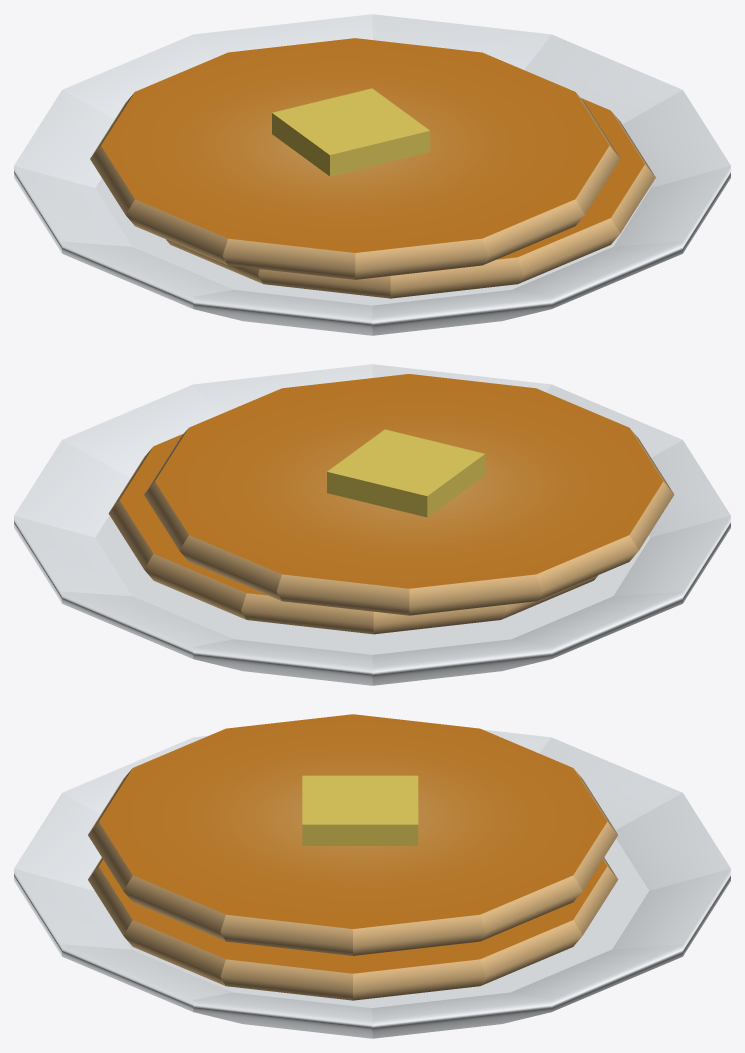
File: pancake.fbx
3 renders of one model, top to bottom at view 1: azimuth 30°, elevation 25°; view 2: azimuth 150°, elevation 25°; view 3: azimuth 270°, elevation 25°, orthographic.
Visible parts, largest first — view 1: pancakes; view 2: pancakes; view 3: pancakes.
Boxes of the visible parts, x1,y1,x2,y2 form: pancakes: [14, 14, 730, 335]; pancakes: [14, 364, 730, 685]; pancakes: [14, 714, 730, 1038].
Bounding box in the file's own units: 43.89 × 7.81 × 43.89.
Materials: 1 (1 with a texture image).
